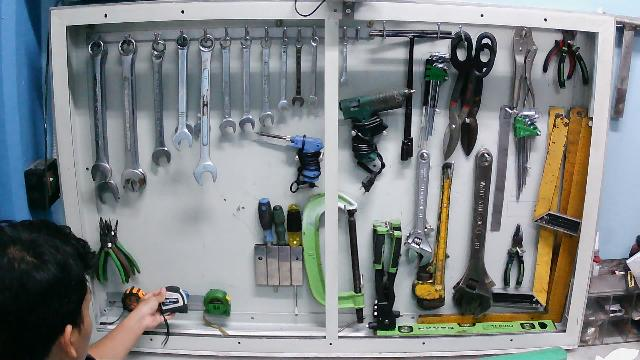meteran: (152, 282, 193, 348)
